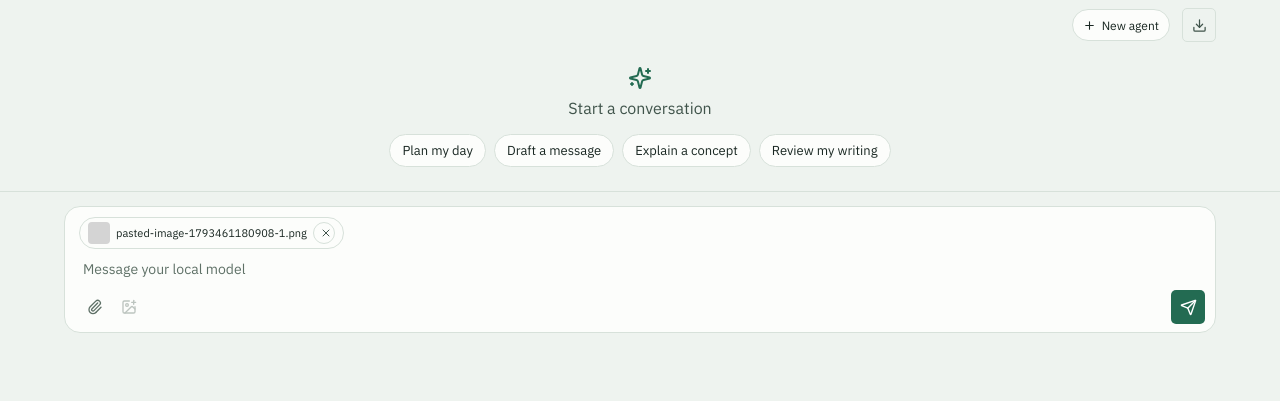
LocalAIChat › attaches a pasted screenshot and sends it with the message
This screenshot has width=1280, height=401.
expect the text box named "Message local AI" is enabled: met, box [79,255,1205,284]
expect the list named "Pending attachments" shows "pasted-image-": met, box [116,226,307,240]
What coordinates should you click on to do the following:
click the button named "Send to local AI"
I would click on:
 (1188, 307)
Its box is [1171,290,1205,324].
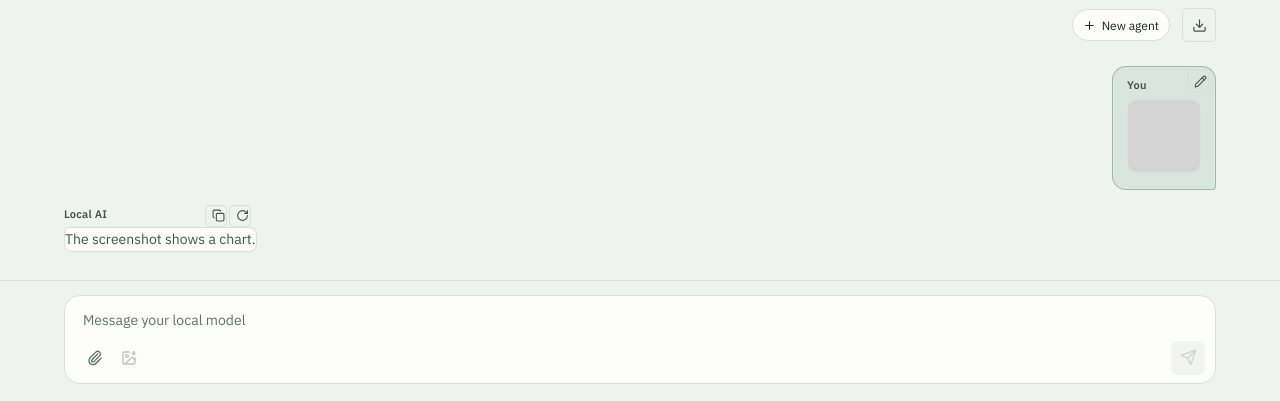
expect the text "The screenshot shows a chart." is shown: met, box [65,228,256,251]
